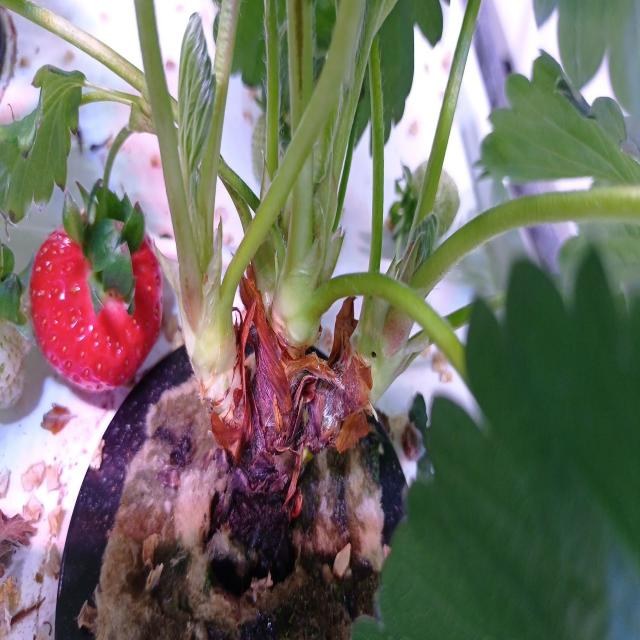Healthy Fruit: (29, 229, 162, 391)
